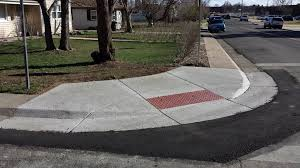Ramp: (28, 66, 251, 119)
